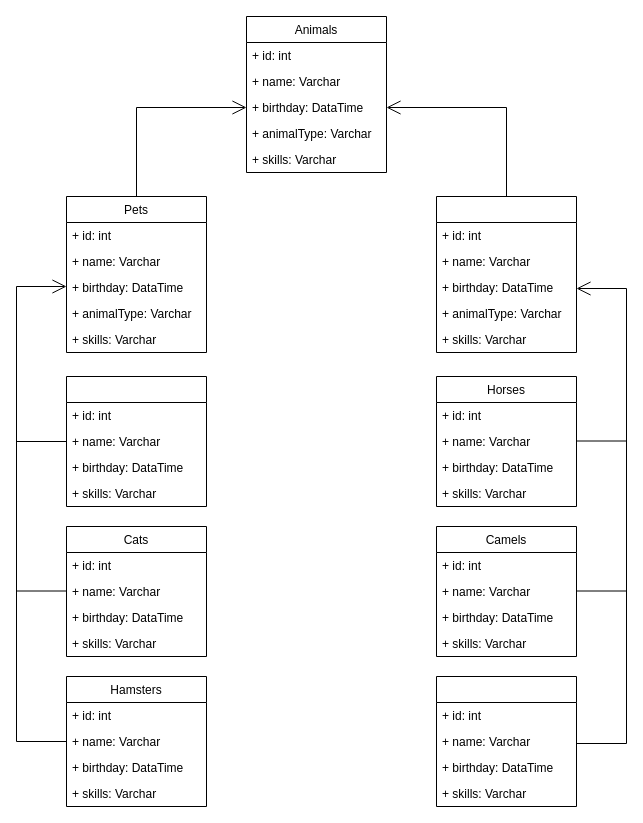
This 643x823 diagram has some shape labels left out. Here are the shapes that lost their labels. From the top down, the box of each, then its label:
(436, 196, 576, 352): PackAnimals
(66, 376, 206, 506): Dogs
(436, 676, 576, 806): D onkeys
